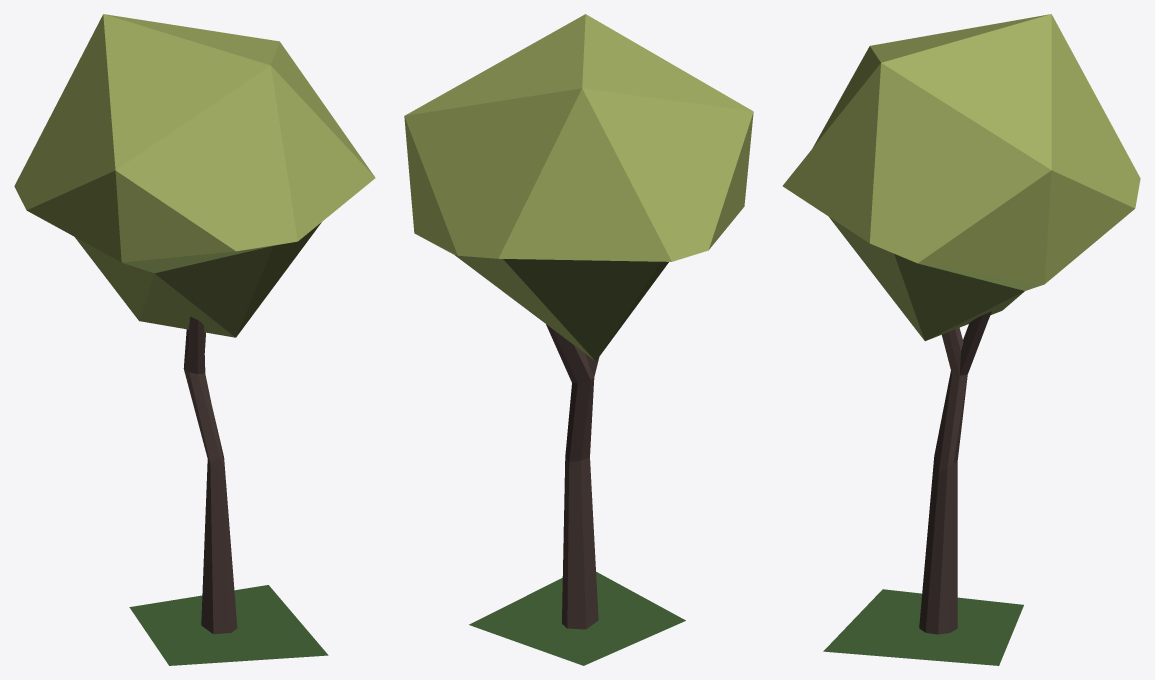
The model's file is SM_Tree_03.fbx.
3 views of the same model, side by side, from view 1: azimuth 30°, elevation 25°; view 2: azimuth 150°, elevation 25°; view 3: azimuth 270°, elevation 25° (orthographic).
Visible parts, largest first — view 1: SM_Tree_03; view 2: SM_Tree_03; view 3: SM_Tree_03.
Boxes of the visible parts, box(x1,y1,x2,y2) form: SM_Tree_03: box(14, 14, 375, 665); SM_Tree_03: box(404, 14, 753, 665); SM_Tree_03: box(782, 14, 1140, 665).
Bounding box in the file's own units: 364 × 705 × 387.
1 material, 1 textured.
